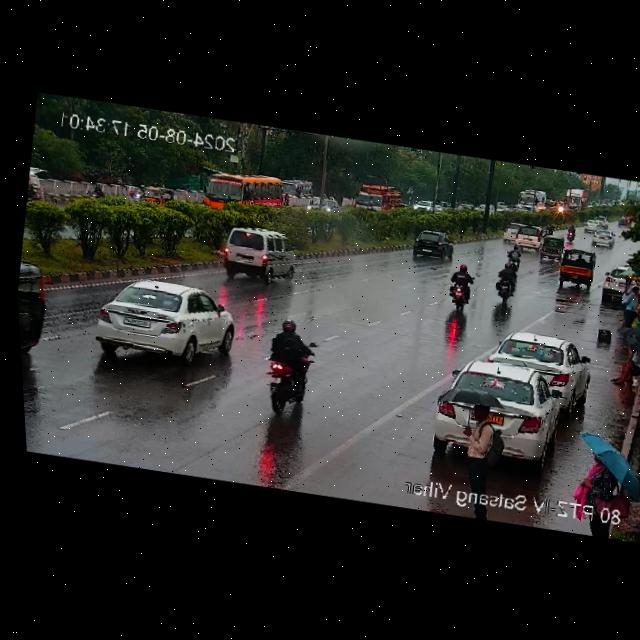bus: (195, 163, 283, 215), (517, 189, 548, 216), (281, 177, 313, 200)
car: (428, 355, 589, 477), (84, 273, 245, 370), (484, 327, 594, 402), (208, 222, 300, 288), (15, 261, 58, 367), (409, 226, 460, 265), (554, 247, 601, 289), (599, 262, 628, 301), (136, 183, 177, 207), (535, 236, 565, 262), (586, 230, 617, 250), (308, 195, 339, 215), (578, 215, 610, 233), (412, 197, 433, 215), (617, 216, 630, 227)
motorcycle: (257, 318, 324, 421), (442, 261, 479, 314), (491, 261, 522, 302), (506, 244, 524, 264), (88, 184, 106, 201), (561, 226, 579, 242), (25, 183, 37, 202), (543, 222, 554, 237), (126, 189, 137, 201)
person: (450, 402, 508, 486), (574, 452, 616, 504), (608, 345, 640, 388), (617, 284, 640, 326)
truck: (356, 181, 404, 215), (514, 222, 544, 253), (565, 186, 591, 214), (617, 276, 634, 313), (502, 220, 519, 243)
